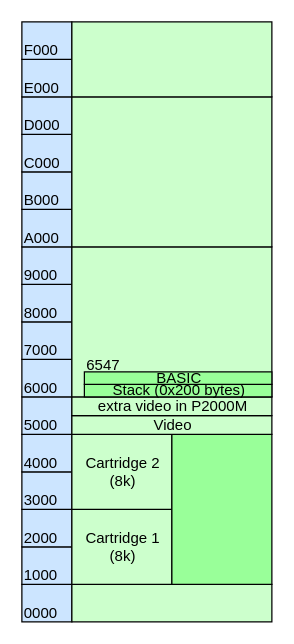
Some shapes in this 294 by 644 pixel diagram are drawn without their labels. Each missing label, with the box of its shape:
e.g. BASIC (16k): (171, 433, 272, 584)
Expansion (16k): (71, 96, 272, 247)
Expansion banks (8k): (71, 21, 272, 97)
Monitor (4k): (71, 583, 272, 622)
RAM (16k): (71, 246, 272, 397)
